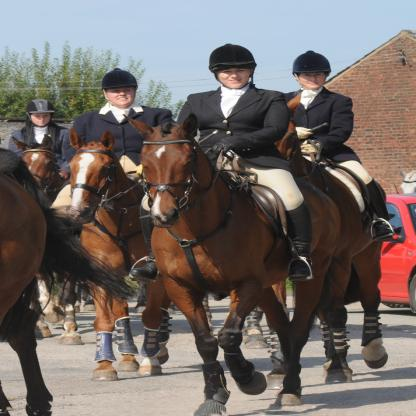Helmet: (206, 43, 261, 84), (291, 50, 331, 89), (101, 66, 138, 107), (28, 100, 54, 126)
